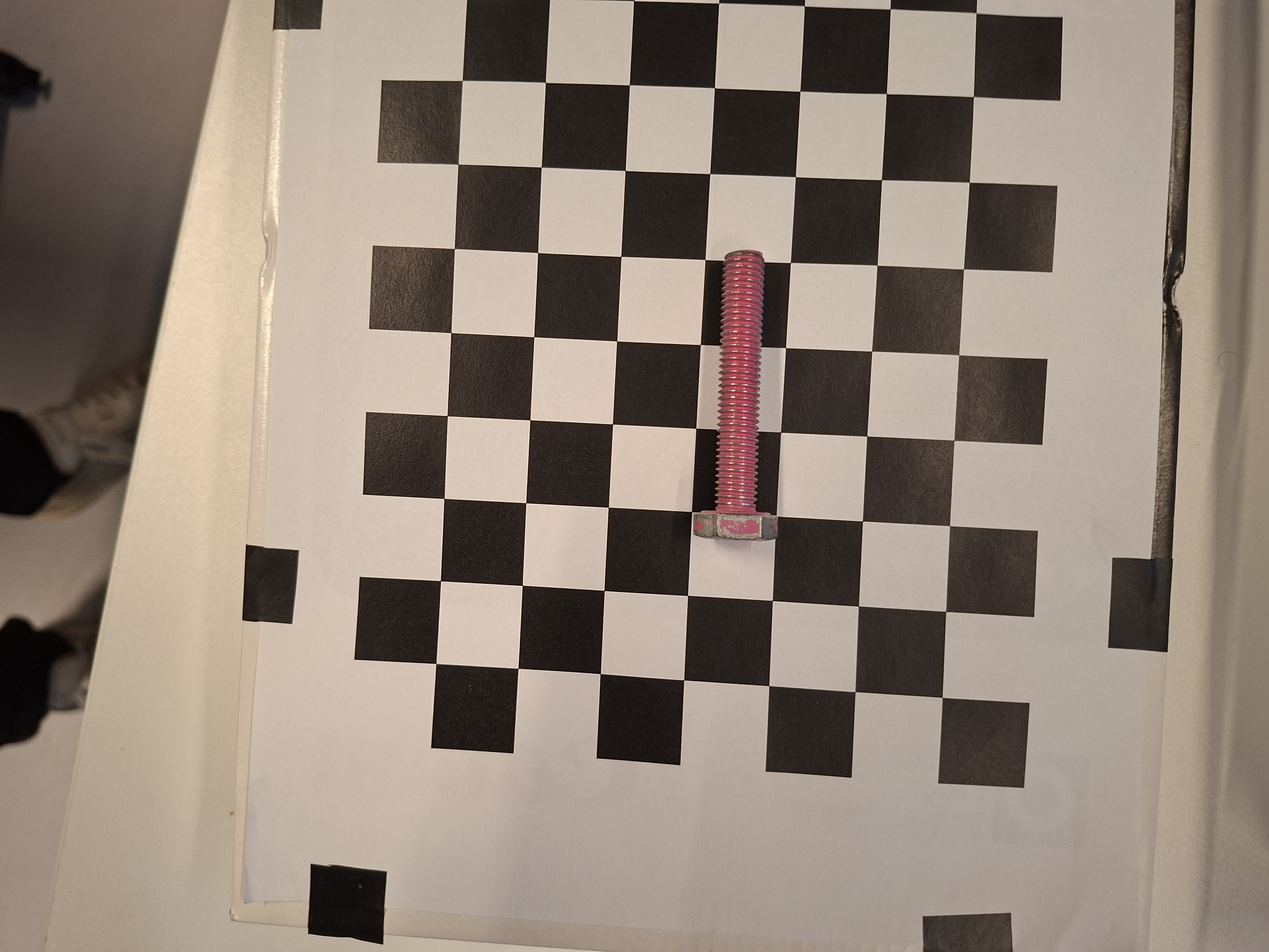hex_bolt: (677, 245, 787, 543)
